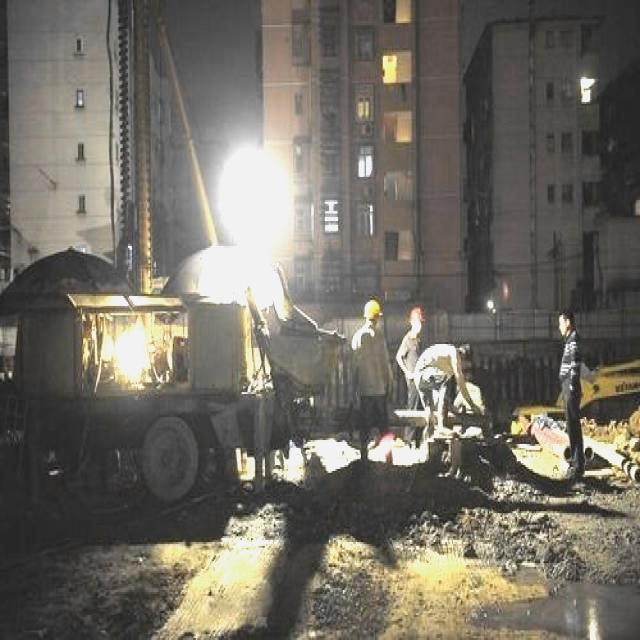Con_Casco: (362, 300, 383, 329)
Sin_Casco_Mascarrilla: (557, 307, 575, 340)
